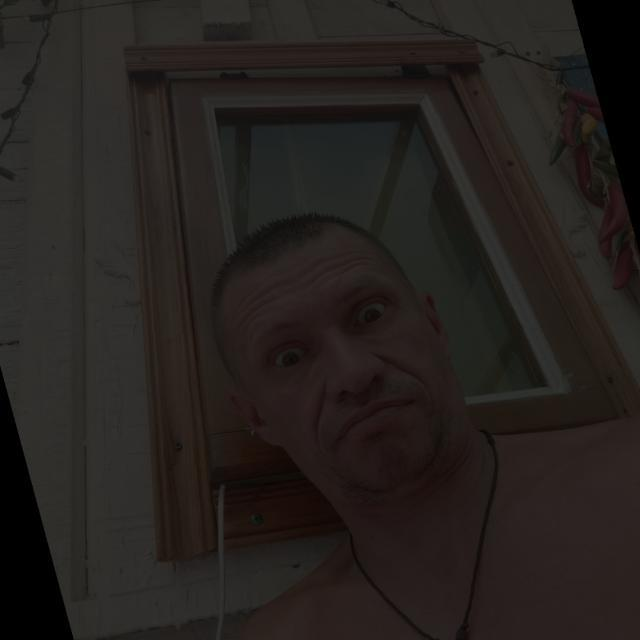Surprised: (183, 146, 476, 518)
